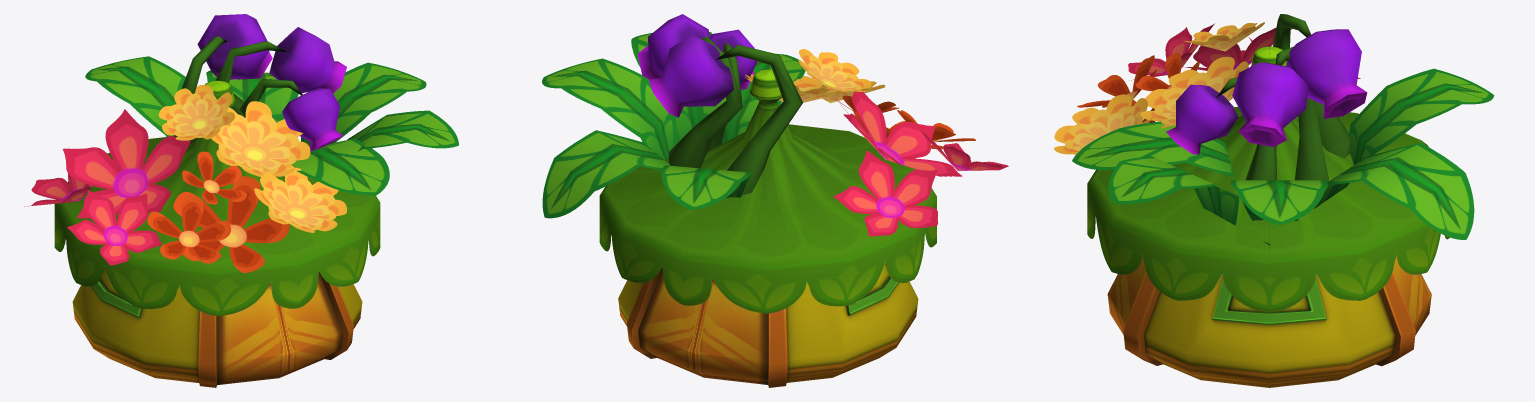
The model's file is NoAnim_FloralShop.FBX.
3 renders of one model, left to right at view 1: azimuth 30°, elevation 25°; view 2: azimuth 150°, elevation 25°; view 3: azimuth 270°, elevation 25°, orthographic. The views are drawn at different scales.
Visible parts, largest first — view 1: NoAnim_FloralShop; view 2: NoAnim_FloralShop; view 3: NoAnim_FloralShop.
Part boxes in pixels (<box>): NoAnim_FloralShop: <box>24,14,458,387</box>; NoAnim_FloralShop: <box>542,14,1008,387</box>; NoAnim_FloralShop: <box>1054,14,1494,387</box>.
Size of the model in its own units: 110 by 74.85 by 99.39.
